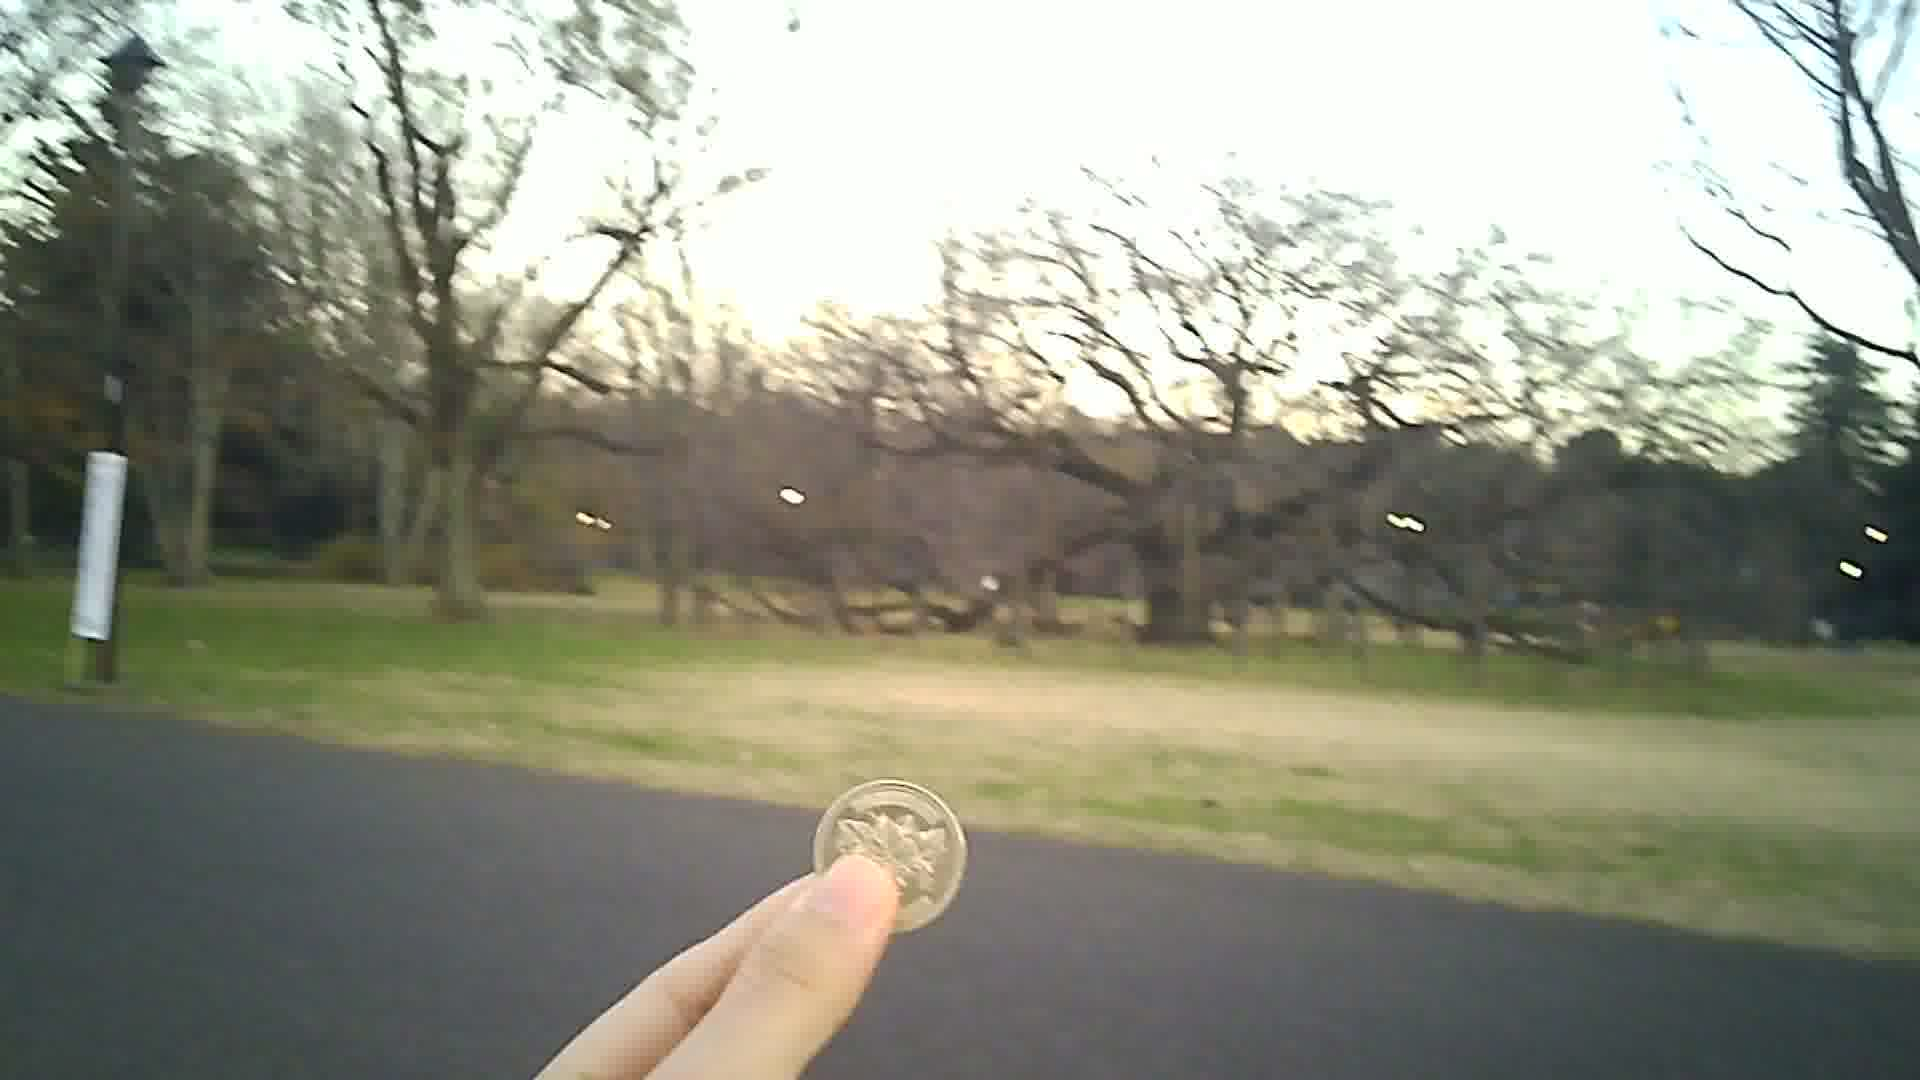500 Yen: (814, 777, 964, 934)
